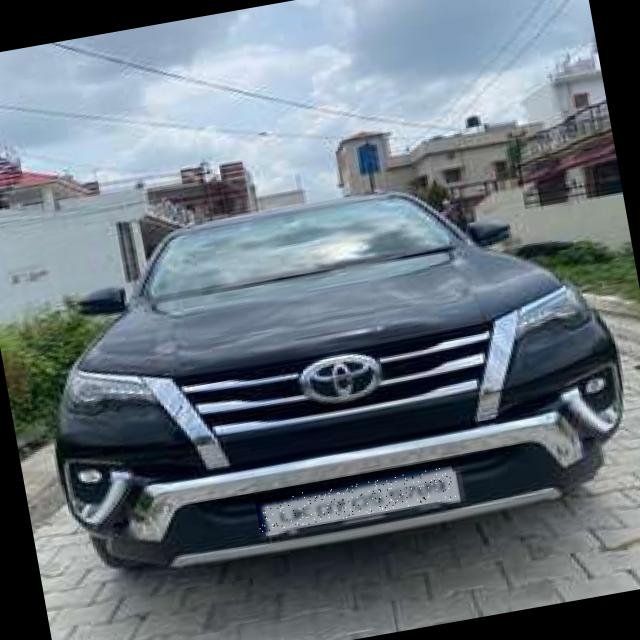Plate: (255, 467, 458, 534)
